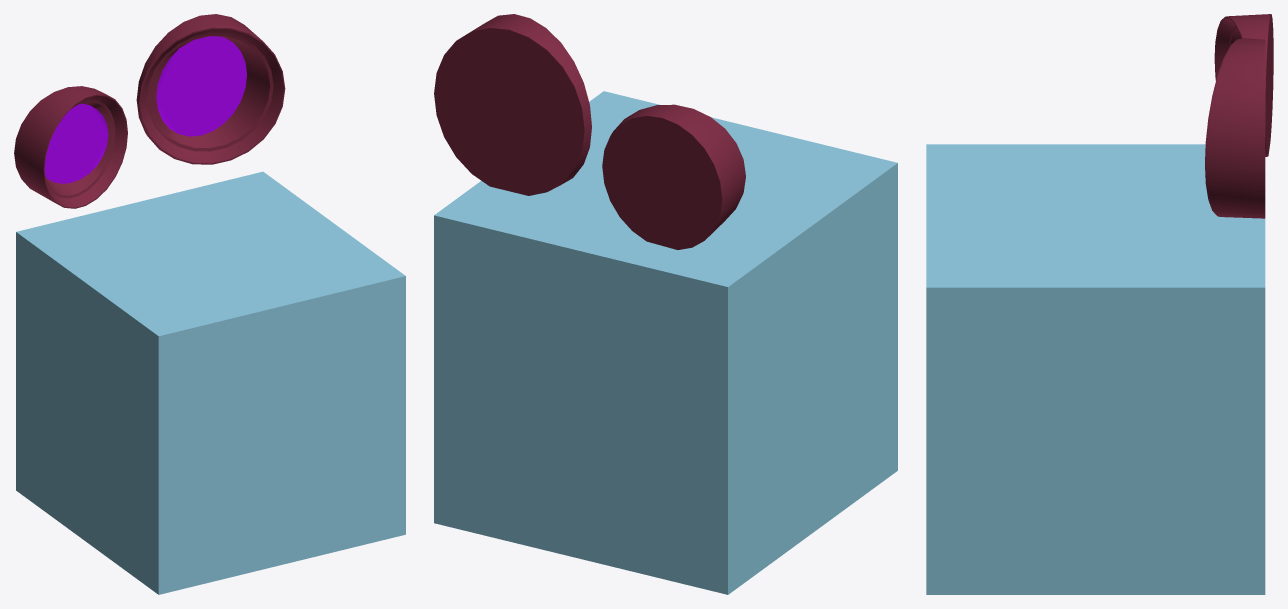
File: portal.glb
The picture shows the model from 3 angles, left to right: view 1: azimuth 30°, elevation 25°; view 2: azimuth 150°, elevation 25°; view 3: azimuth 270°, elevation 25°; orthographic projection. The views are drawn at different scales.
Parts seen in each view (by area): view 1: tyle-test; view 2: tyle-test; view 3: tyle-test.
Boxes of the visible parts, x1=… form: tyle-test: x1=14, y1=14, x2=405, y2=594; tyle-test: x1=434, y1=14, x2=897, y2=594; tyle-test: x1=926, y1=14, x2=1273, y2=594.
Size of the model in its own units: 1 by 1.66 by 1.02.
